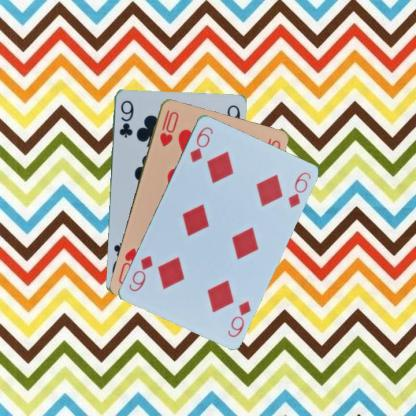10h: (156, 106, 180, 148)
6d: (225, 298, 252, 338), (188, 124, 214, 164)
9c: (116, 97, 135, 139)
